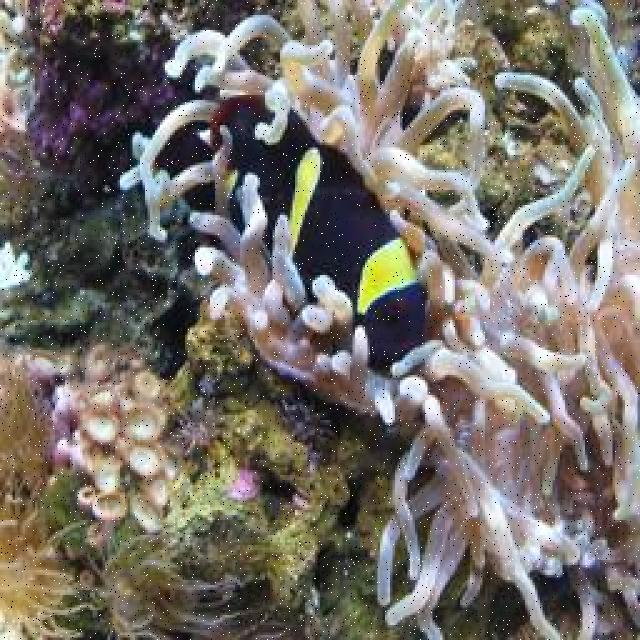fish: (211, 96, 429, 377)
reefs: (119, 0, 638, 638), (28, 339, 182, 553)
